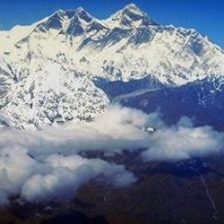neutral: (4, 6, 219, 218)
